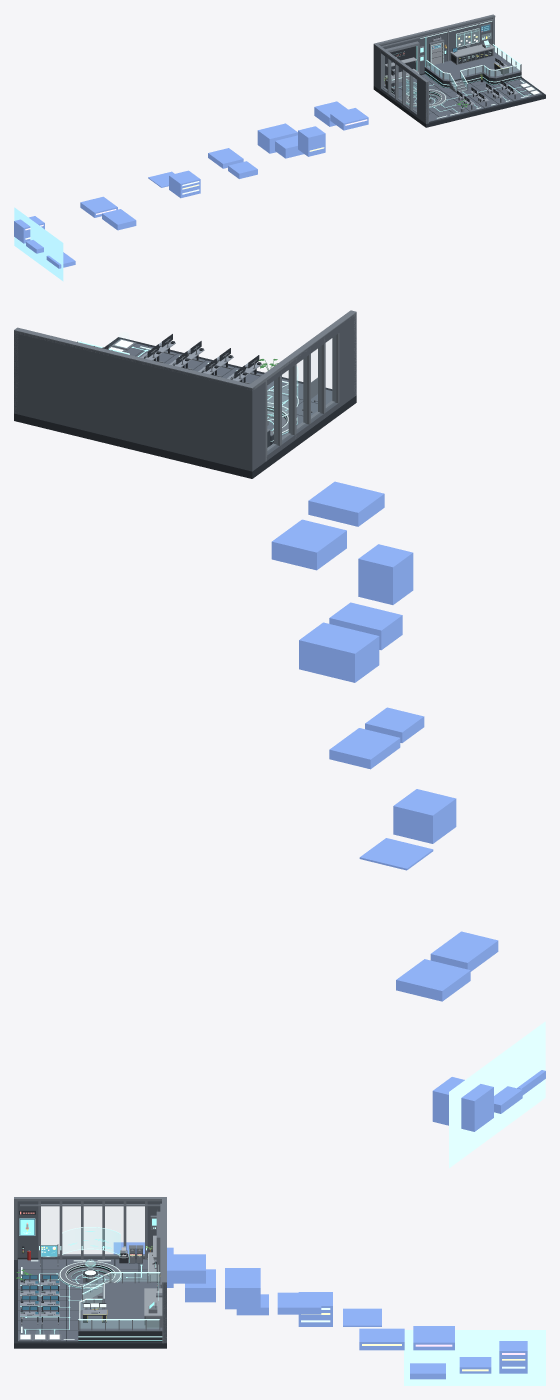
Rendered from room.glb.
The picture shows the model from 3 angles, top to bottom: view 1: azimuth 30°, elevation 25°; view 2: azimuth 150°, elevation 25°; view 3: azimuth 270°, elevation 25°; orthographic projection. The views are drawn at different scales.
Visible parts, largest first — view 1: City_Blocks, Room_Walls, Room_Floor, Fx_CommandDeck, Room_FloorSlab, Fx_Bench, Fx_Console, Fx_Door, Fx_HoloRing, Fx_KanbanBoard; view 2: City_Blocks, Room_Walls, Room_FloorSlab, Room_Floor; view 3: City_Blocks, Room_Walls, Fx_CommandDeck, Room_Floor, Room_FloorSlab, Fx_HoloRing, Fx_HoloScreen, Fx_Console, Fx_Bench, City_Lights, Fx_Stairs, Fx_ShipItPoster (+4 smaller).
Boxes of the visible parts, x1,y1,x2,y2 form: City_Blocks: [14, 101, 368, 281]; Room_Walls: [373, 14, 495, 123]; Room_Floor: [384, 74, 541, 121]; Fx_CommandDeck: [424, 44, 521, 87]; Room_FloorSlab: [373, 77, 545, 127]; Fx_Bench: [384, 41, 419, 84]; Fx_Console: [450, 40, 494, 64]; Fx_Door: [429, 39, 446, 66]; Fx_HoloRing: [406, 89, 446, 107]; Fx_KanbanBoard: [456, 28, 479, 47]; City_Blocks: [271, 481, 545, 1168]; Room_Walls: [14, 310, 356, 471]; Room_FloorSlab: [14, 337, 356, 478]; Room_Floor: [125, 343, 332, 436]; City_Blocks: [113, 1242, 545, 1385]; Room_Walls: [14, 1197, 166, 1343]; Fx_CommandDeck: [78, 1272, 162, 1341]; Room_Floor: [18, 1259, 156, 1341]; Room_FloorSlab: [14, 1259, 166, 1348]; Fx_HoloRing: [58, 1259, 121, 1289]; Fx_HoloScreen: [62, 1227, 120, 1256]; Fx_Console: [144, 1288, 162, 1327]; Fx_Bench: [148, 1211, 160, 1282]; City_Lights: [301, 1308, 525, 1371]; Fx_Stairs: [82, 1275, 103, 1304]; Fx_ShipItPoster: [19, 1210, 35, 1260].
Bounding box in the file's own units: 49.33 × 31.95 × 43.8.
